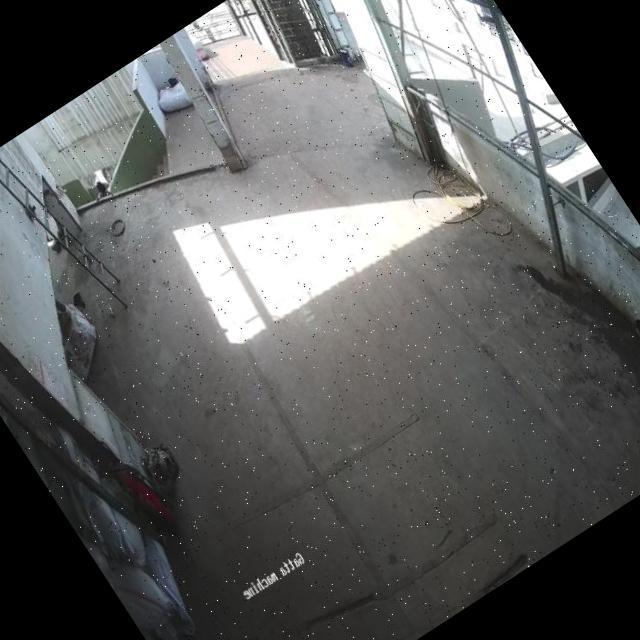person: (88, 172, 115, 202)
